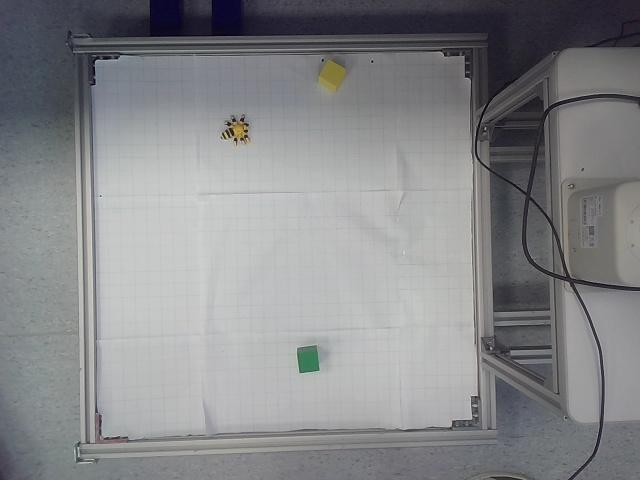frelon: (220, 114, 251, 147)
